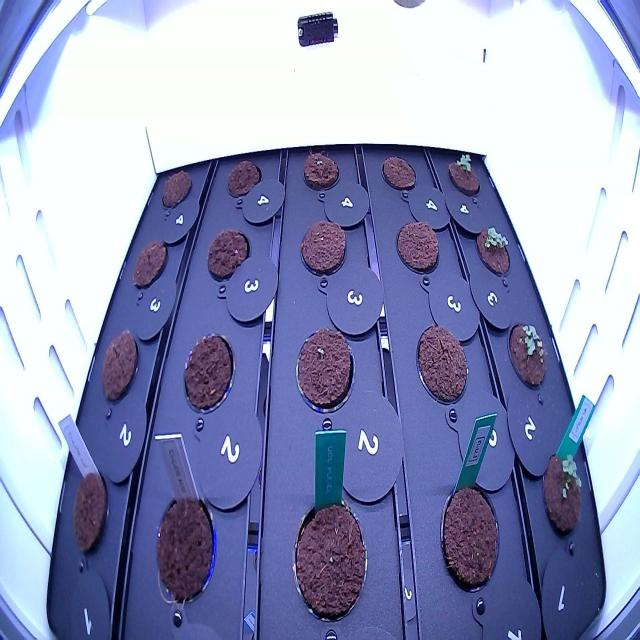germination: (291, 321, 358, 415), (538, 443, 586, 553), (506, 316, 550, 396), (472, 220, 514, 284), (444, 146, 484, 203), (299, 145, 345, 194)
pod: (284, 484, 372, 631), (148, 488, 225, 606), (435, 479, 507, 598), (411, 316, 472, 409), (178, 328, 238, 422), (69, 462, 112, 568), (98, 322, 142, 412), (296, 212, 348, 280), (392, 213, 442, 278), (203, 222, 250, 286), (128, 231, 168, 302), (223, 156, 266, 207), (158, 161, 195, 219), (377, 151, 420, 195)
